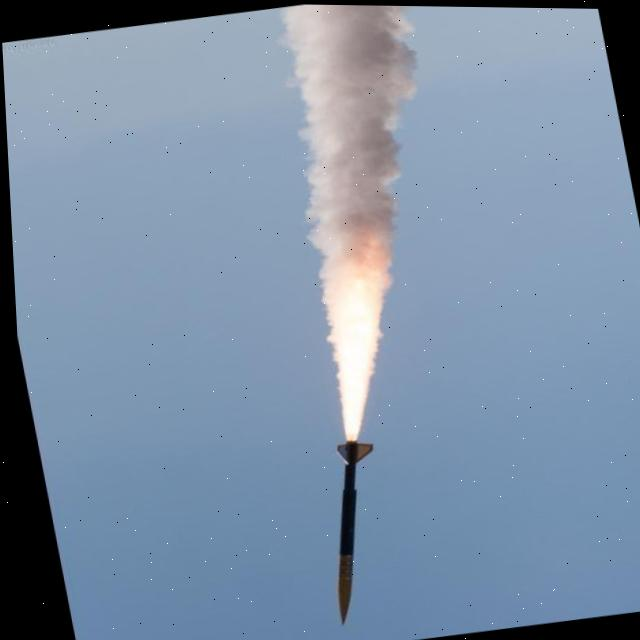missile: (296, 429, 407, 623)
